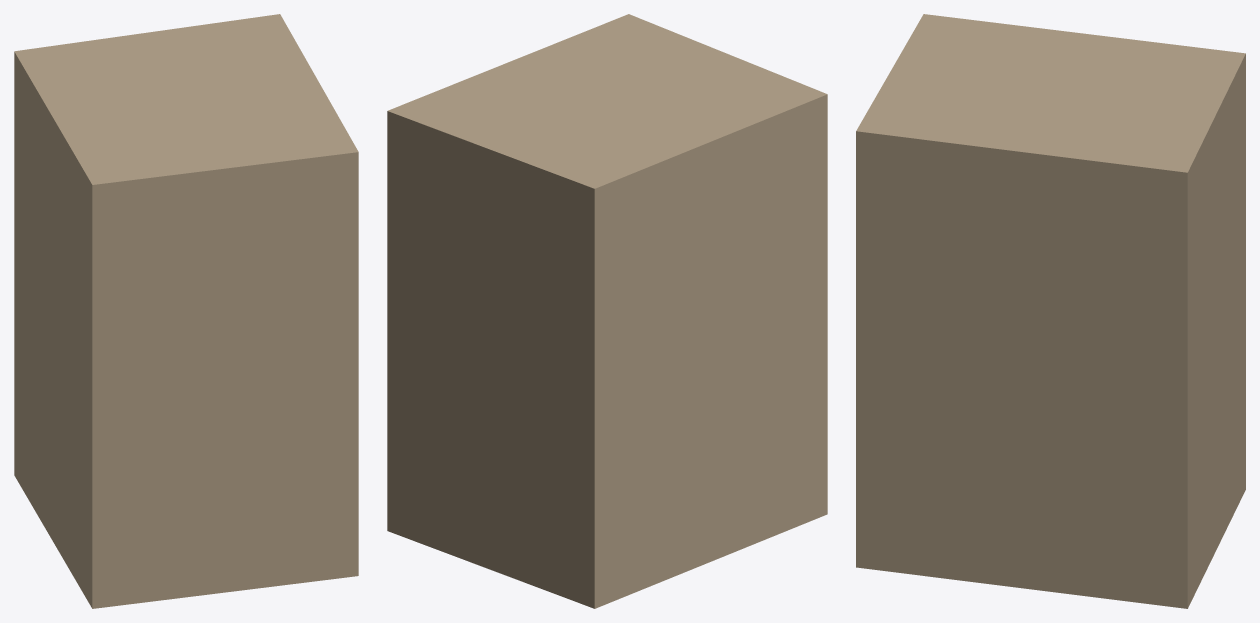
Rendered from bld_98768062.dae.
3 renders of one model, left to right at view 1: azimuth 30°, elevation 25°; view 2: azimuth 150°, elevation 25°; view 3: azimuth 270°, elevation 25°, orthographic. The views are drawn at different scales.
Visible parts, largest first — view 1: Reed Hair; view 2: Reed Hair; view 3: Reed Hair.
Part boxes in pixels (x1,y1,x2,y2): Reed Hair: (14,14,358,608); Reed Hair: (387,14,827,608); Reed Hair: (856,14,1245,608).
Size of the model in its own units: 6.24 by 6.48 by 8.
